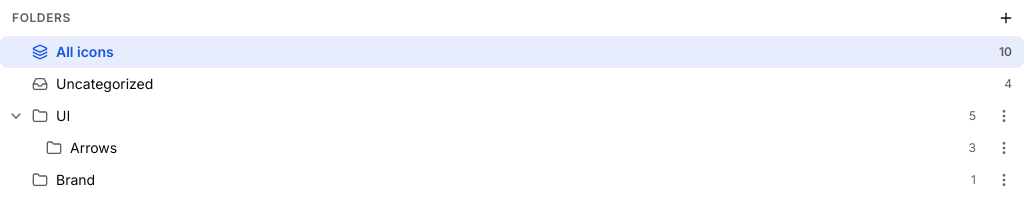
Test: structure › collapses and expands a folder that has subfolders
Click the button named "Collapse UI".
click(16, 116)  # box [4,104,28,128]
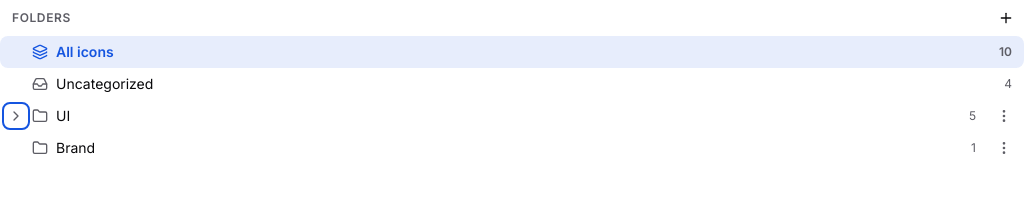
Expected: the button "Arrows" is gone
Expected: the button named "Expand UI" is collapsed
Click the button named "Expand UI".
click(16, 116)  # box [4,104,28,128]
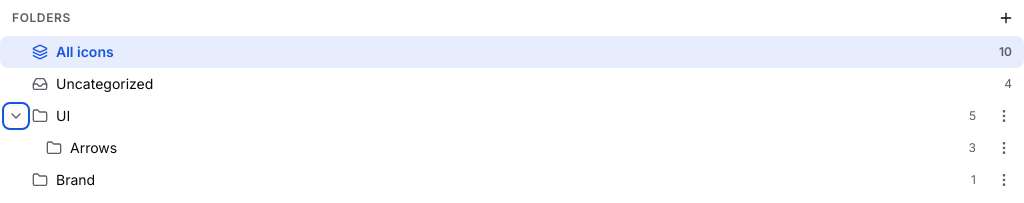
Expected: the button "Arrows 3" is shown, [46,132,984,164]
